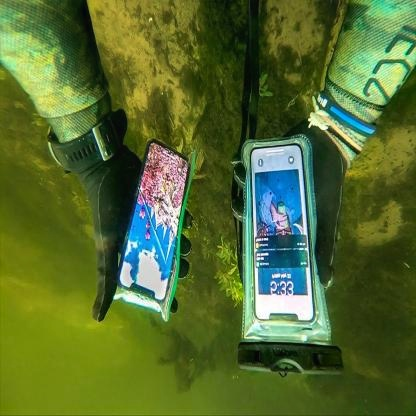cellphone: (248, 143, 318, 332), (116, 138, 191, 306)
